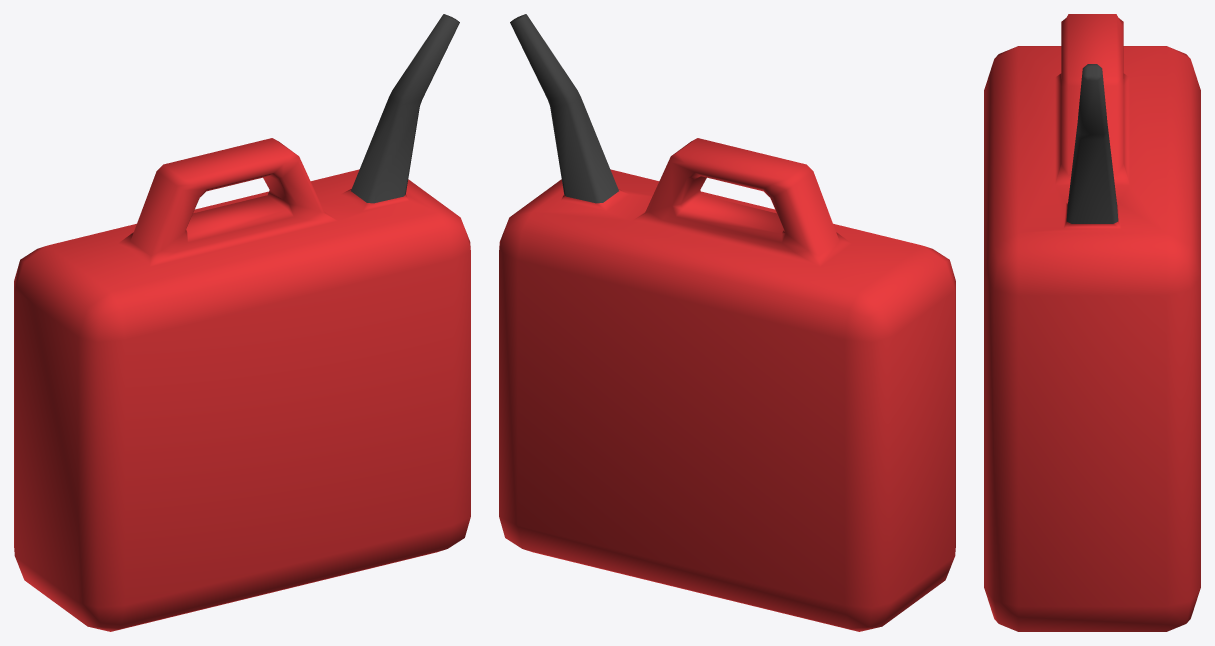
Rendered from gas.glb.
3 views of the same model, side by side, from view 1: azimuth 30°, elevation 25°; view 2: azimuth 150°, elevation 25°; view 3: azimuth 270°, elevation 25° (orthographic). The views are drawn at different scales.
Parts seen in each view (by area): view 1: Gas; view 2: Gas; view 3: Gas.
Boxes of the visible parts, box(x1,y1,x2,y2) form: Gas: box(14, 14, 470, 631); Gas: box(499, 14, 955, 631); Gas: box(984, 14, 1200, 631).
Bounding box in the file's own units: 0.5908 × 0.6911 × 0.23.
